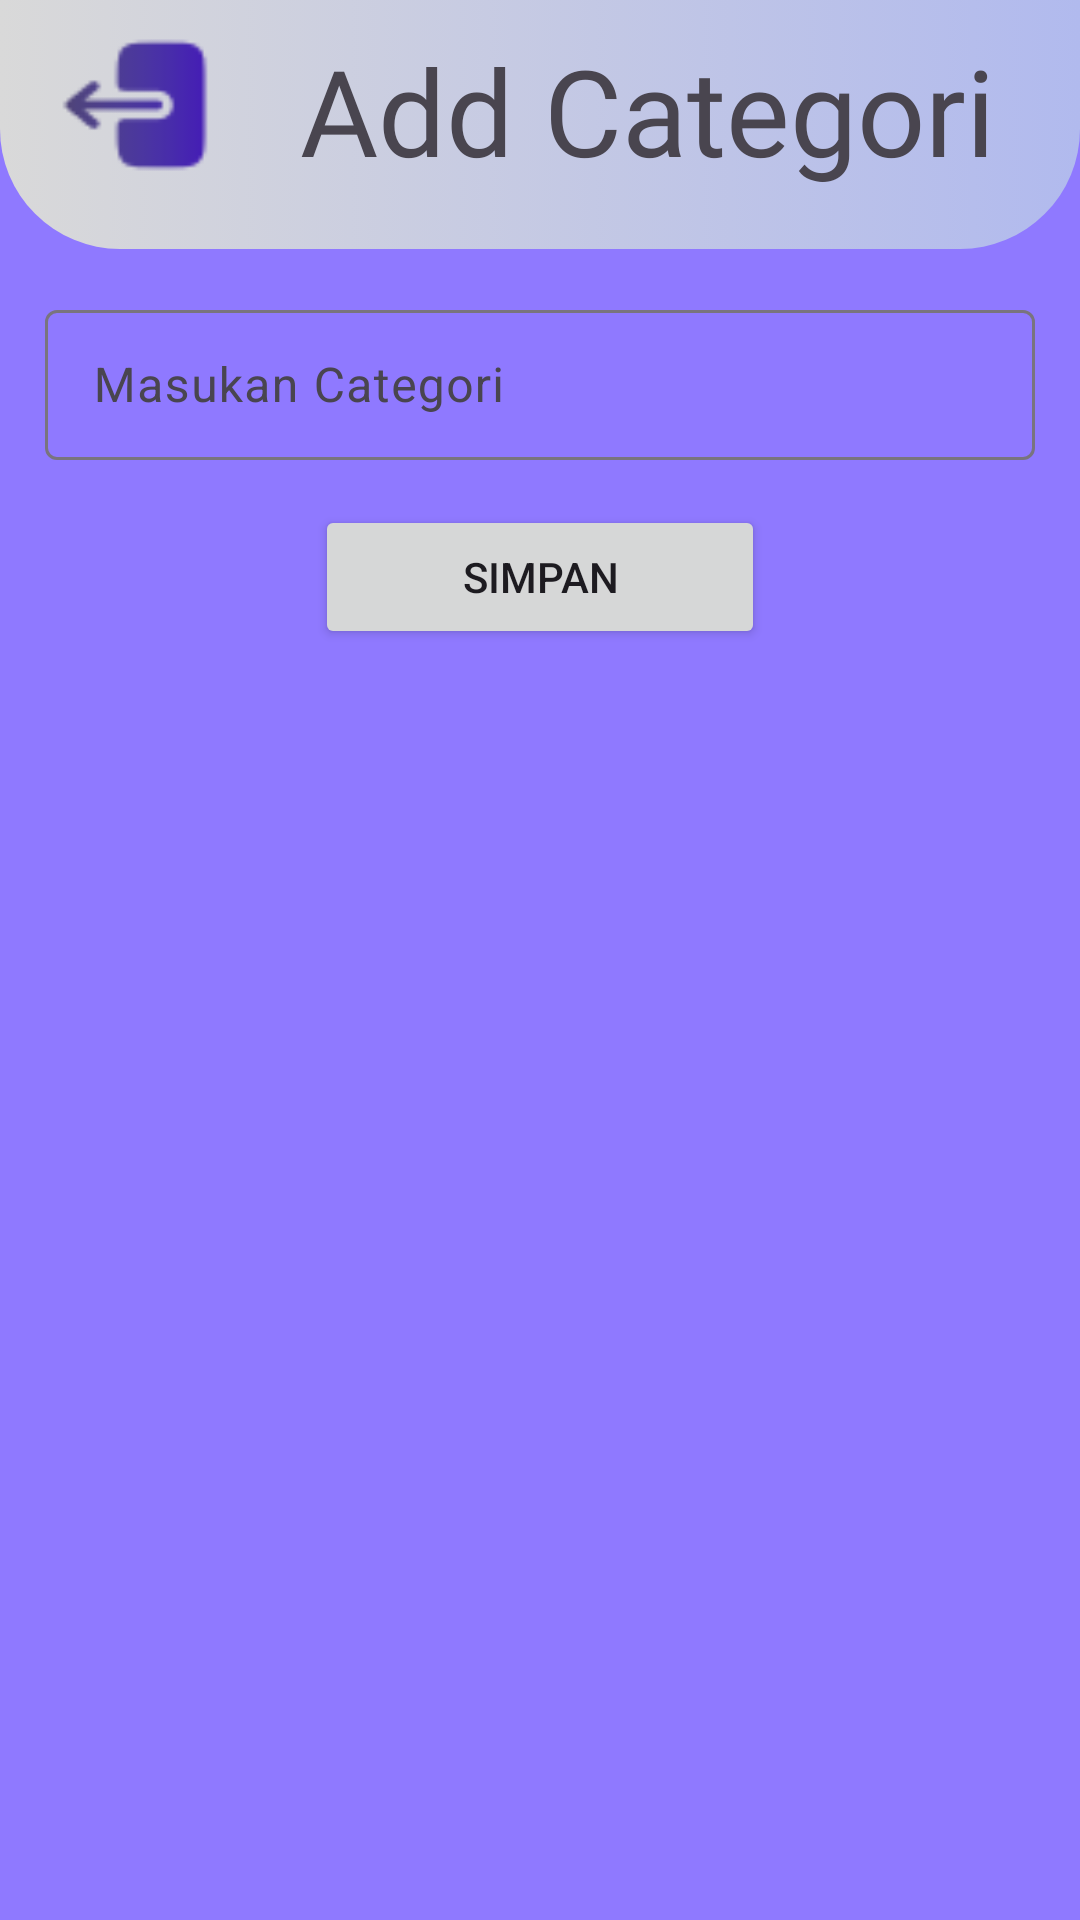

Where to tap for icons on this 1080×1920 app screen, as [x,y]:
Tombol Kembali: [135,105]
